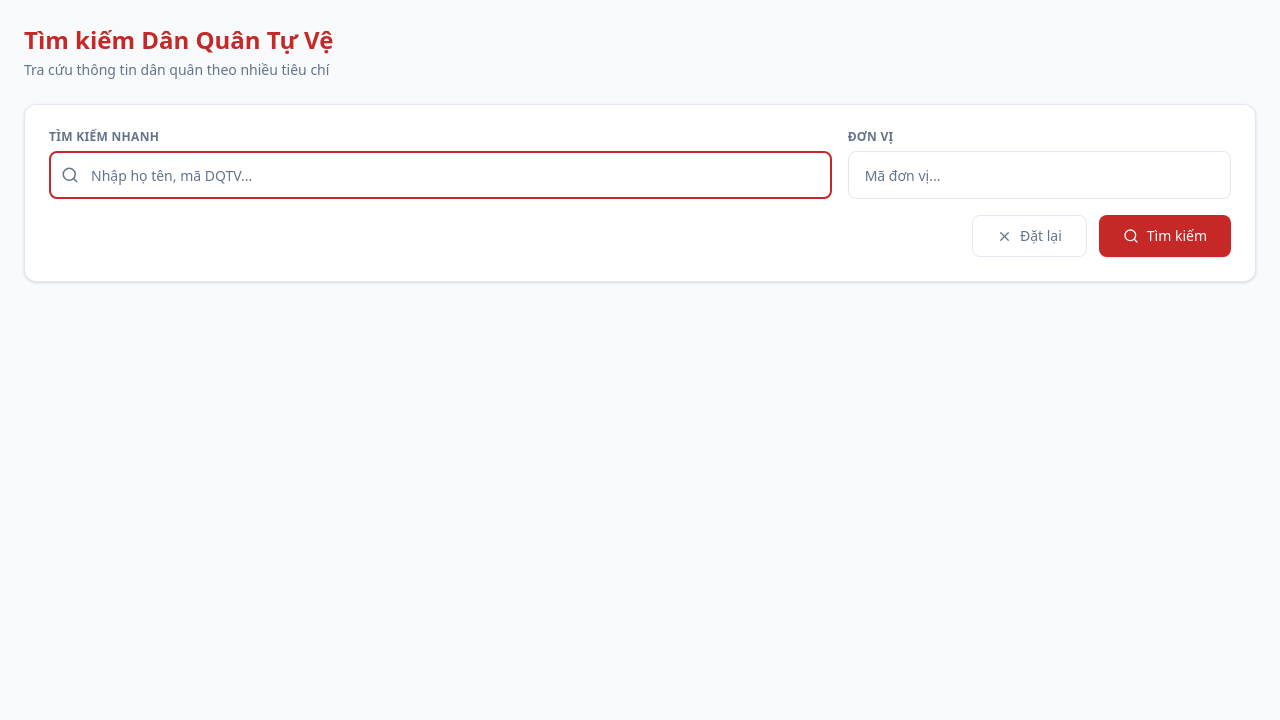
it: MilitiaSearchPage › shows empty state when no results
This screenshot has width=1280, height=720.
Step 1. Click the button with test id "search-btn" → x=1165, y=236, box left=1099, top=215, right=1231, bottom=257
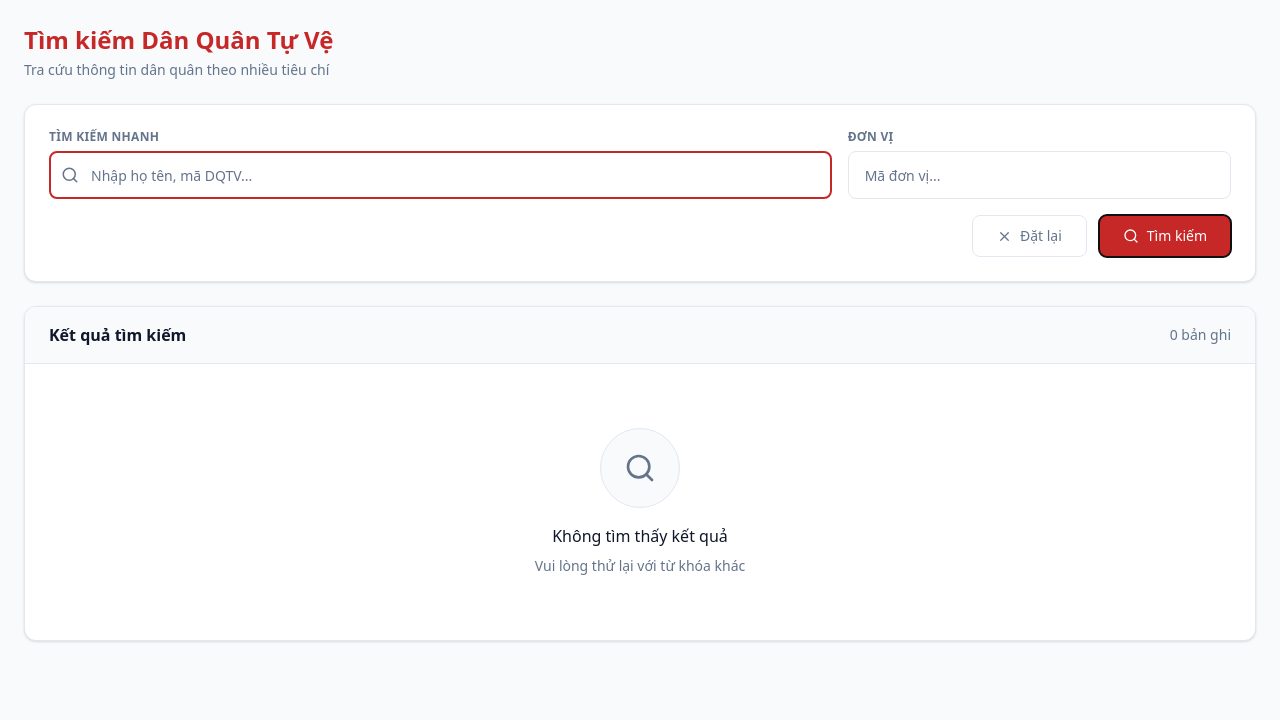
Now the element with test id "empty-state" is shown, box left=535, top=428, right=745, bottom=575
